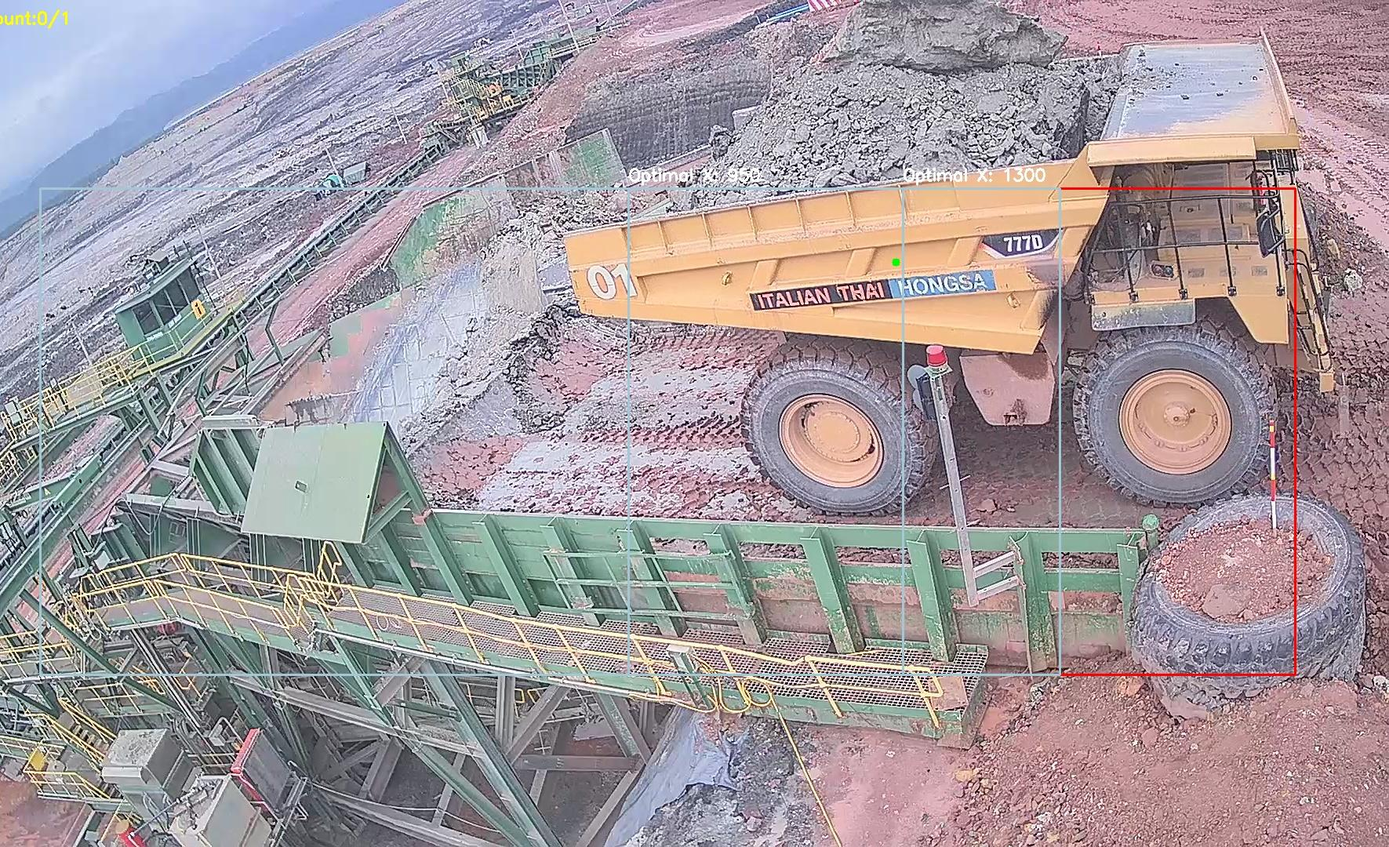company: (736, 262, 1012, 310)
full_load: (708, 20, 1096, 208)
mining_truck: (556, 9, 1331, 516)
tail_number: (584, 255, 644, 307)
truck_size: (992, 222, 1059, 261)
